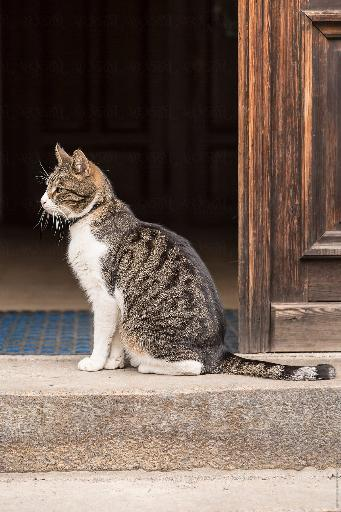cat_sitting: (41, 144, 335, 380)
